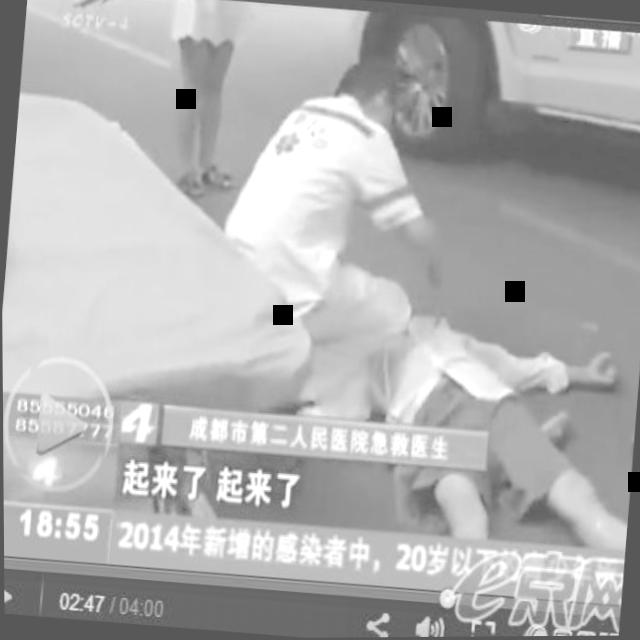Fall-Detected: (339, 267, 640, 580)
